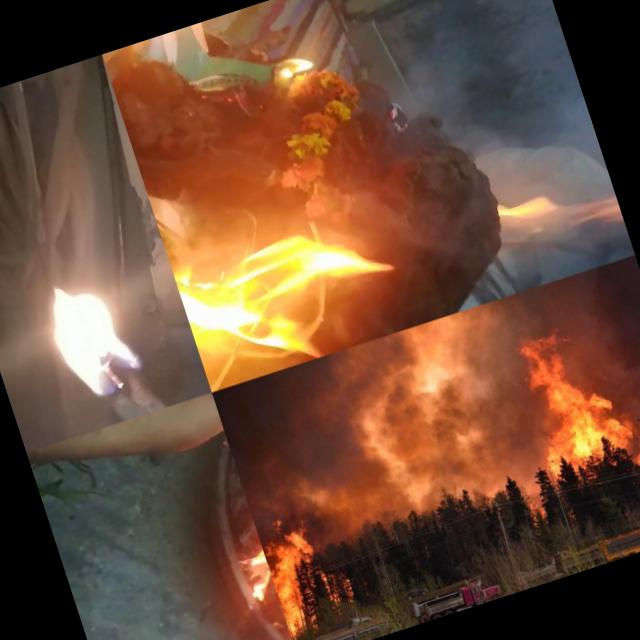fire: (506, 308, 640, 509), (18, 247, 164, 414), (254, 498, 363, 638), (314, 306, 400, 356), (408, 224, 452, 284)
smoke: (212, 332, 443, 522), (373, 0, 574, 131), (324, 432, 546, 540), (402, 304, 534, 461), (492, 266, 616, 344), (601, 255, 640, 419)
